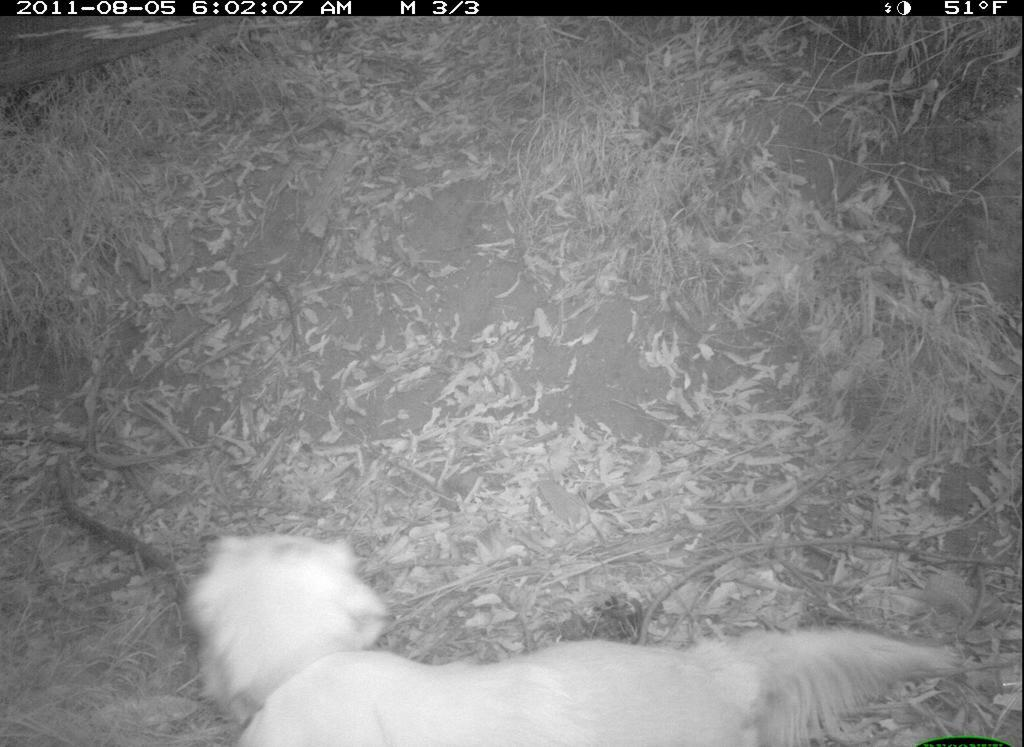dog: (176, 523, 963, 747)
